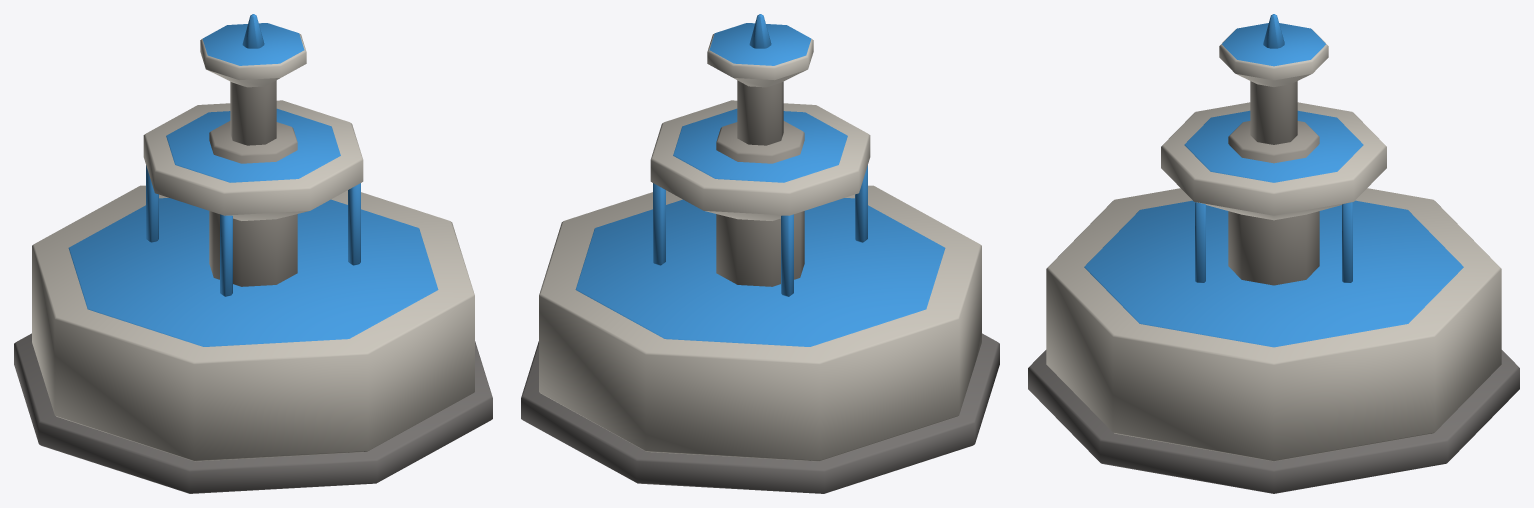
File: P_MedStoneFountain.fbx
3 renders of one model, left to right at view 1: azimuth 30°, elevation 25°; view 2: azimuth 150°, elevation 25°; view 3: azimuth 270°, elevation 25°, orthographic.
Parts seen in each view (by area): view 1: M_StoneFountain; view 2: M_StoneFountain; view 3: M_StoneFountain.
Boxes of the visible parts, <box> form: M_StoneFountain: <box>14,14,492,493</box>; M_StoneFountain: <box>521,14,999,493</box>; M_StoneFountain: <box>1028,14,1519,493</box>.
Bounding box in the file's own units: 2.7 × 2.28 × 2.7.
Materials: 1 (1 with a texture image).
